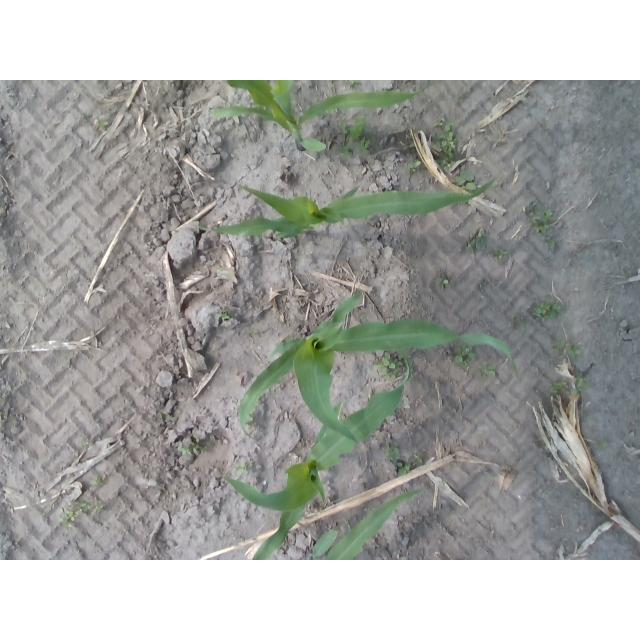Maize: (237, 289, 519, 447), (220, 358, 411, 560), (194, 178, 497, 234), (210, 80, 435, 152), (308, 489, 420, 560)
Weeds: (59, 500, 83, 528), (374, 354, 402, 374), (440, 126, 457, 150), (457, 171, 479, 189), (345, 118, 364, 138), (454, 345, 475, 363), (471, 229, 486, 249), (85, 499, 104, 514), (436, 149, 453, 165), (563, 342, 582, 356), (353, 138, 371, 152), (548, 299, 560, 319), (235, 461, 249, 475), (555, 380, 570, 393), (483, 363, 498, 376), (513, 316, 527, 329), (397, 463, 411, 476), (436, 273, 448, 287), (388, 445, 400, 459), (95, 121, 110, 132), (535, 223, 550, 234), (337, 143, 348, 157), (536, 303, 551, 313), (411, 453, 423, 464), (494, 248, 507, 258), (548, 239, 557, 253), (189, 443, 199, 454), (61, 353, 72, 363), (91, 477, 101, 488), (408, 160, 420, 169), (159, 412, 170, 421), (531, 216, 542, 225), (554, 341, 562, 353), (578, 379, 587, 389), (80, 440, 91, 448), (458, 89, 466, 99), (249, 329, 259, 337), (544, 209, 552, 219), (350, 81, 361, 88), (221, 314, 230, 322), (178, 448, 187, 456), (247, 423, 257, 430), (480, 280, 488, 288), (435, 121, 443, 128), (1, 411, 4, 416)
